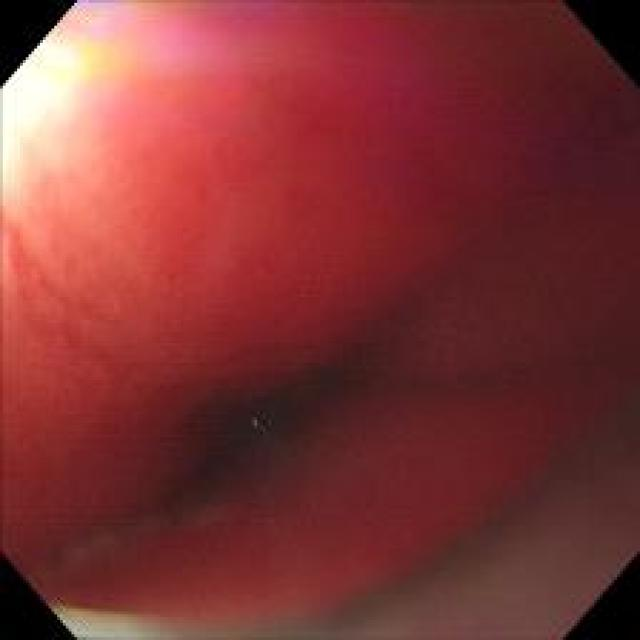color misalignment: (238, 408, 278, 442)
saturation: (0, 1, 169, 210)
